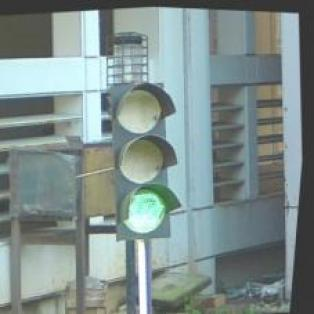Semaforo Verde: (102, 78, 191, 240)
